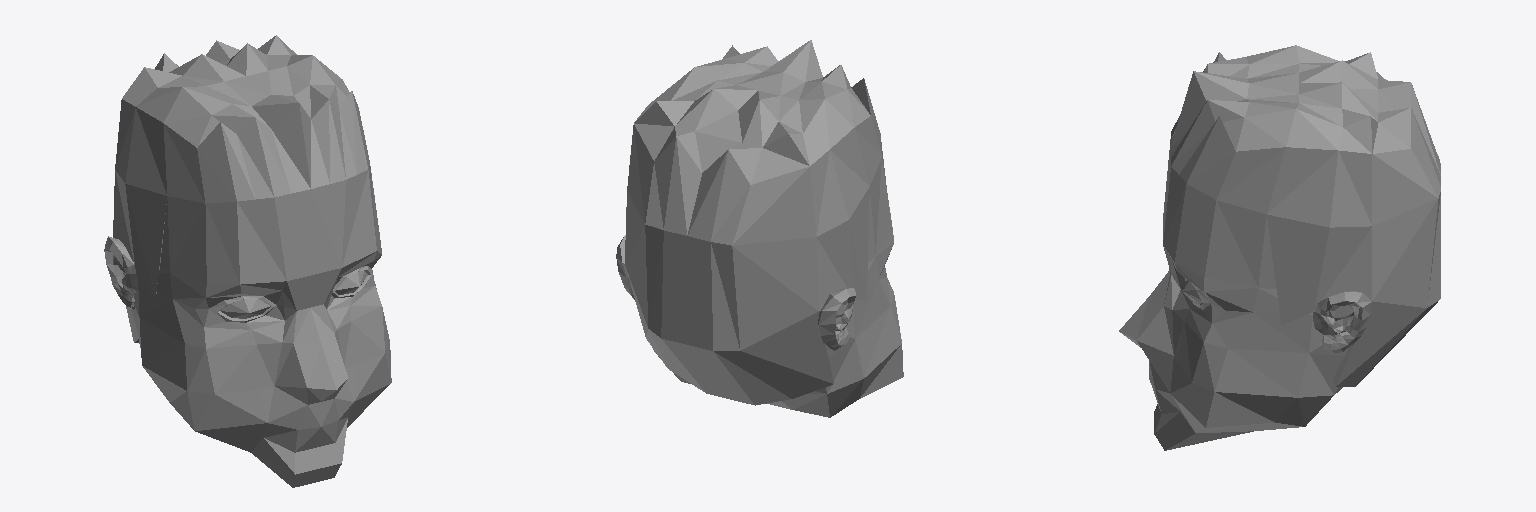
File: Manfred_open.obj
The picture shows the model from 3 angles: view 1: azimuth 30°, elevation 25°; view 2: azimuth 150°, elevation 25°; view 3: azimuth 270°, elevation 25°; orthographic projection.
Visible parts, largest first — view 1: Face_Cube, Hair_Cube.002; view 2: Hair_Cube.002, Face_Cube; view 3: Hair_Cube.002, Face_Cube.
Boxes of the visible parts, box(x1,y1,x2,y2) form: Face_Cube: box(104, 166, 391, 487); Hair_Cube.002: box(113, 35, 369, 342); Hair_Cube.002: box(625, 40, 881, 405); Face_Cube: box(616, 142, 903, 417); Hair_Cube.002: box(1170, 45, 1440, 386); Face_Cube: box(1119, 139, 1371, 450).
Bounding box in the file's own units: 4.68 × 7.22 × 5.71.